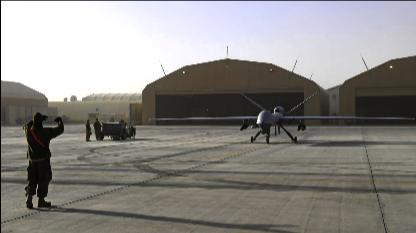MQ9: (148, 92, 414, 142)
